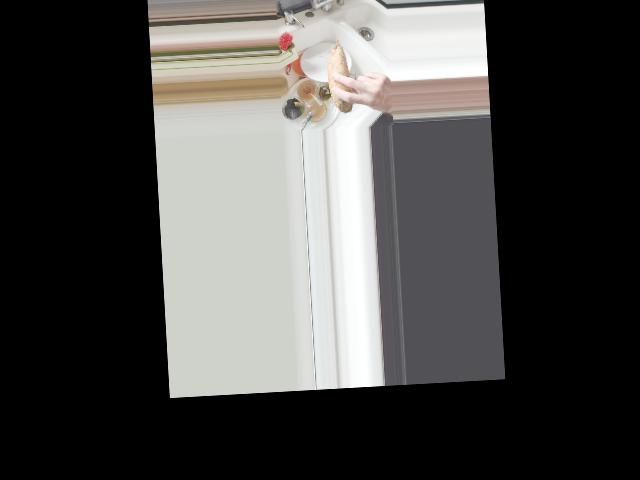sweet_potato: (326, 36, 357, 116)
